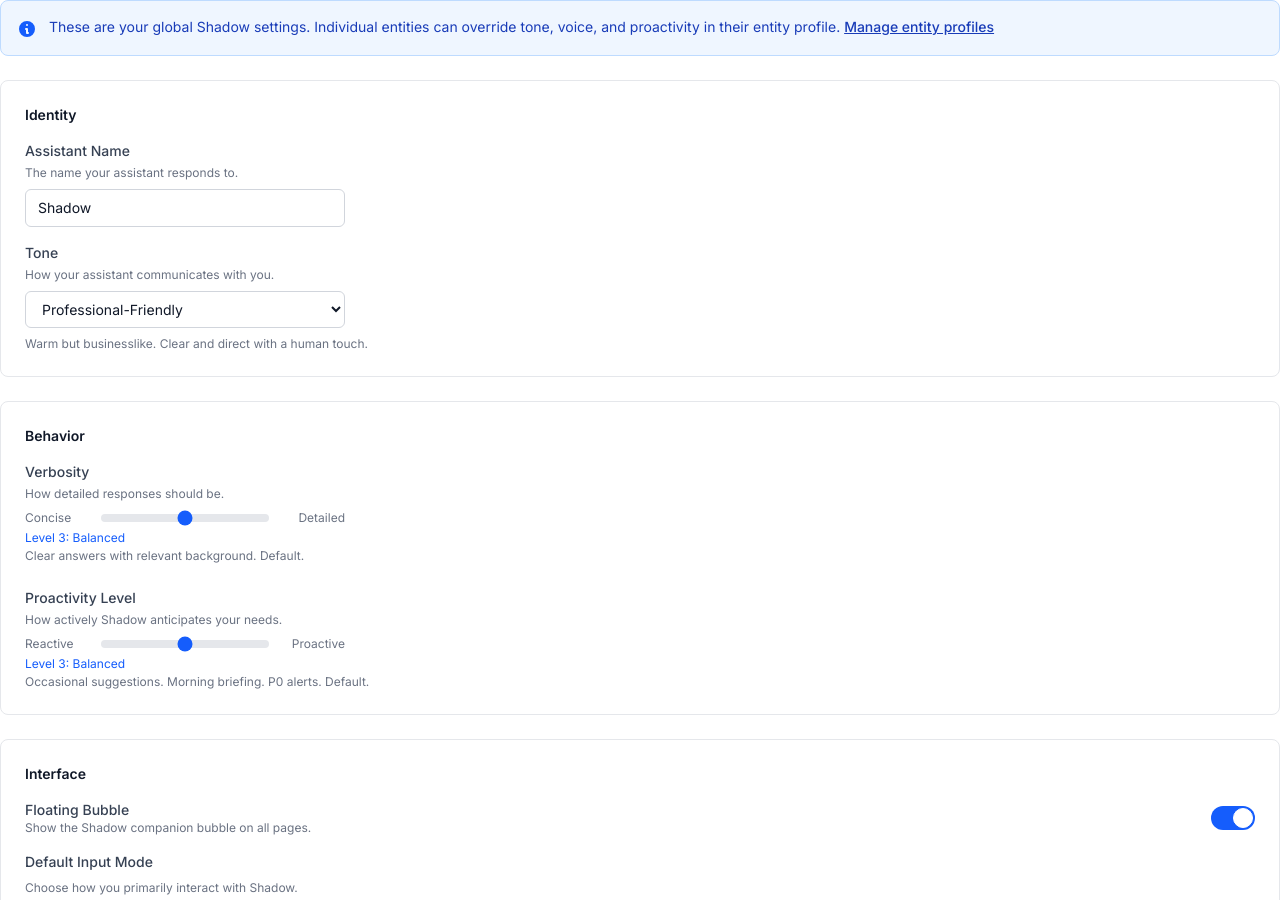
General Tab Enhancements › shows verbosity level description that changes with slider
expect the text "Level 3: Balanced" is shown 2 times: met, box left=25, top=530, right=125, bottom=545; left=25, top=656, right=125, bottom=671
expect the text "Clear answers with relevant background. Default." is shown: met, box left=25, top=548, right=304, bottom=563
// Change verbosity slider to level 1
Set the slider next to "Concise" to "1" at (109, 518), box left=101, top=514, right=269, bottom=522
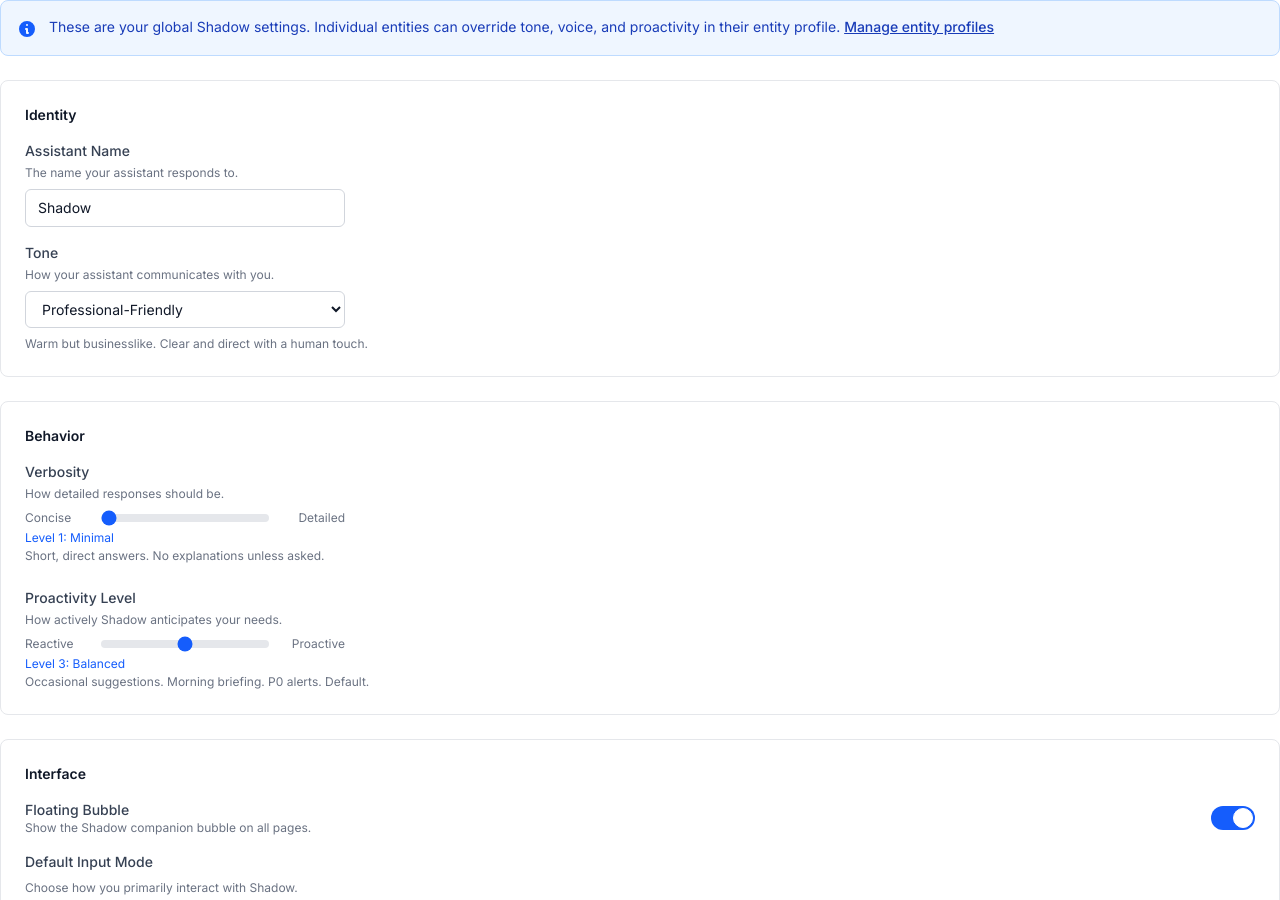
expect the text "Level 1: Minimal" is shown: met, box left=25, top=530, right=114, bottom=545
expect the text "Short, direct answers. No explanations unless asked." is shown: met, box left=25, top=548, right=324, bottom=563
